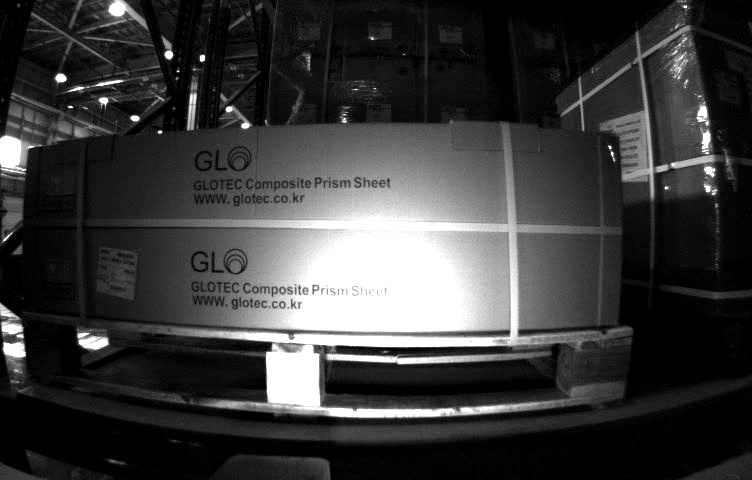True Barcode: (95, 247, 134, 301), (718, 68, 743, 106)
